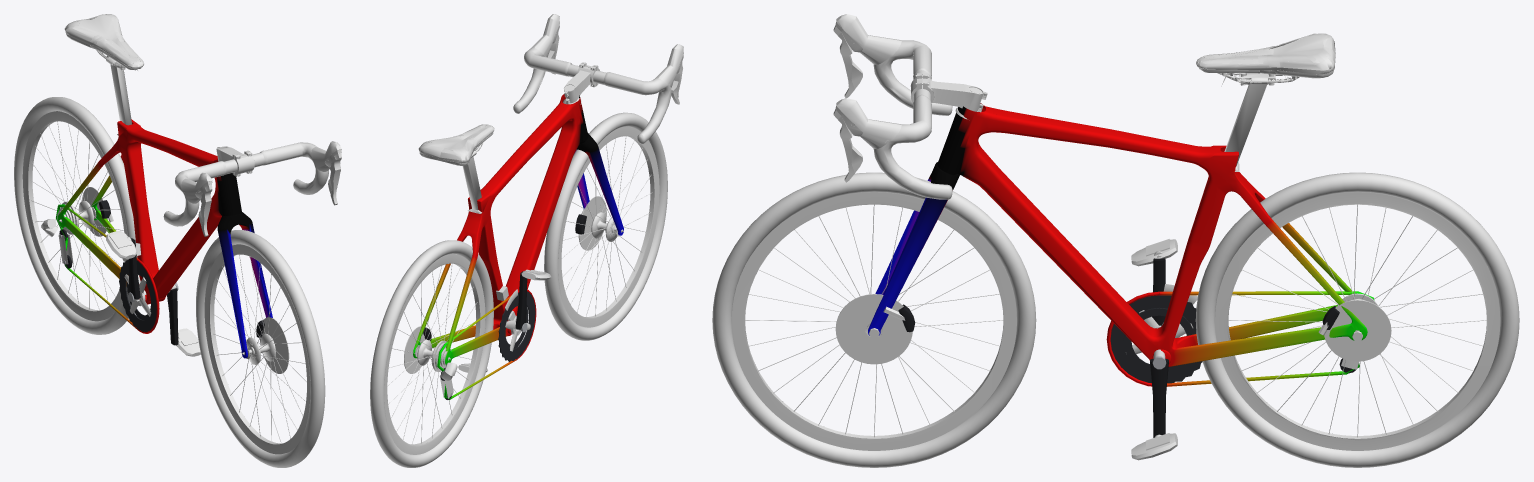
File: gravel.glb
The picture shows the model from 3 angles, left to right: view 1: azimuth 30°, elevation 25°; view 2: azimuth 150°, elevation 25°; view 3: azimuth 270°, elevation 25°; orthographic projection. The views are drawn at different scales.
Visible parts, largest first — view 1: wheel_front, frame, wheel_rear, cockpit, saddle, crankset, opt_derailleur, pedal_R, pedal_L; view 2: frame, wheel_rear, wheel_front, cockpit, saddle, crankset, opt_derailleur; view 3: wheel_front, wheel_rear, frame, cockpit, saddle, crankset, opt_brakes_disc, pedal_L.
Boxes of the visible parts, x1=… form: wheel_front: x1=196, y1=230, x2=325, y2=467; frame: x1=56, y1=119, x2=272, y2=358; wheel_rear: x1=14, y1=97, x2=138, y2=334; cockpit: x1=163, y1=141, x2=341, y2=236; saddle: x1=64, y1=14, x2=143, y2=135; crankset: x1=119, y1=238, x2=178, y2=345; opt_derailleur: x1=41, y1=219, x2=140, y2=268; pedal_R: x1=106, y1=231, x2=137, y2=258; pedal_L: x1=176, y1=328, x2=200, y2=356; frame: x1=413, y1=94, x2=623, y2=399; wheel_rear: x1=370, y1=240, x2=493, y2=467; wheel_front: x1=544, y1=112, x2=667, y2=340; cockpit: x1=513, y1=14, x2=683, y2=143; saddle: x1=418, y1=124, x2=494, y2=213; crankset: x1=498, y1=271, x2=535, y2=361; opt_derailleur: x1=439, y1=286, x2=517, y2=399; wheel_front: x1=712, y1=172, x2=1036, y2=467; wheel_rear: x1=1195, y1=172, x2=1519, y2=467; frame: x1=868, y1=103, x2=1374, y2=386; cockpit: x1=833, y1=14, x2=987, y2=199; saddle: x1=1196, y1=33, x2=1335, y2=171; crankset: x1=1110, y1=258, x2=1202, y2=437; opt_brakes_disc: x1=869, y1=304, x2=1362, y2=341; pedal_L: x1=1131, y1=433, x2=1177, y2=460.
Bounding box in the file's own units: 0.4513 × 0.9635 × 1.67.
